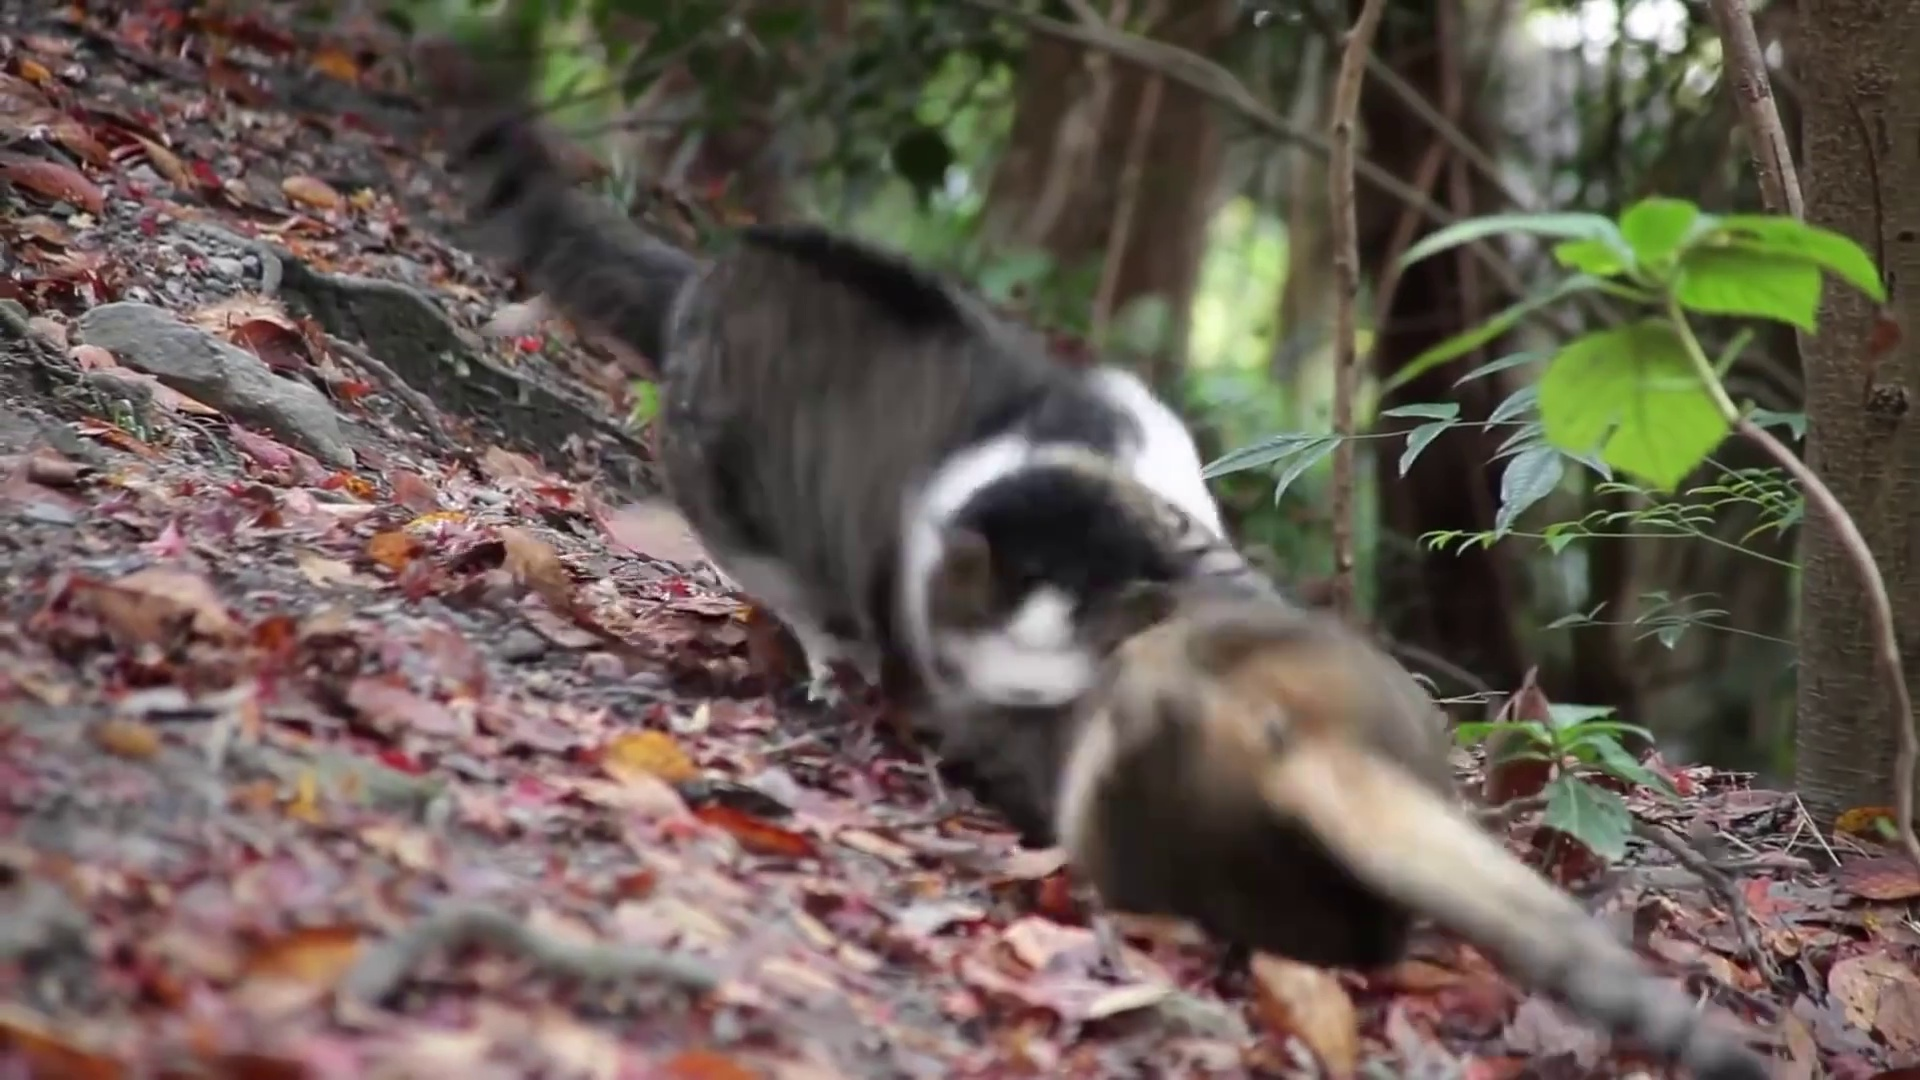black-white: (459, 109, 1158, 704)
pure black: (1055, 468, 1760, 1069)
